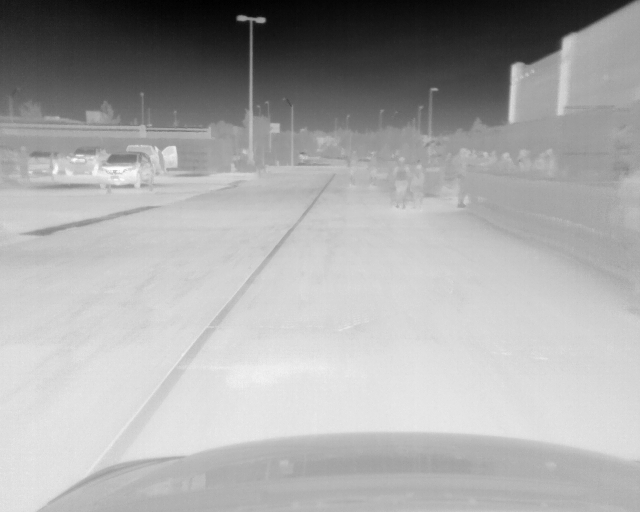car: (96, 150, 156, 190), (126, 142, 178, 173), (63, 146, 106, 175), (27, 148, 62, 175)
people: (611, 164, 640, 318), (392, 155, 410, 209), (456, 147, 470, 208), (410, 162, 426, 209), (514, 150, 532, 176), (367, 151, 378, 188), (348, 150, 358, 187), (477, 151, 496, 169), (544, 149, 557, 175), (498, 150, 511, 173)
